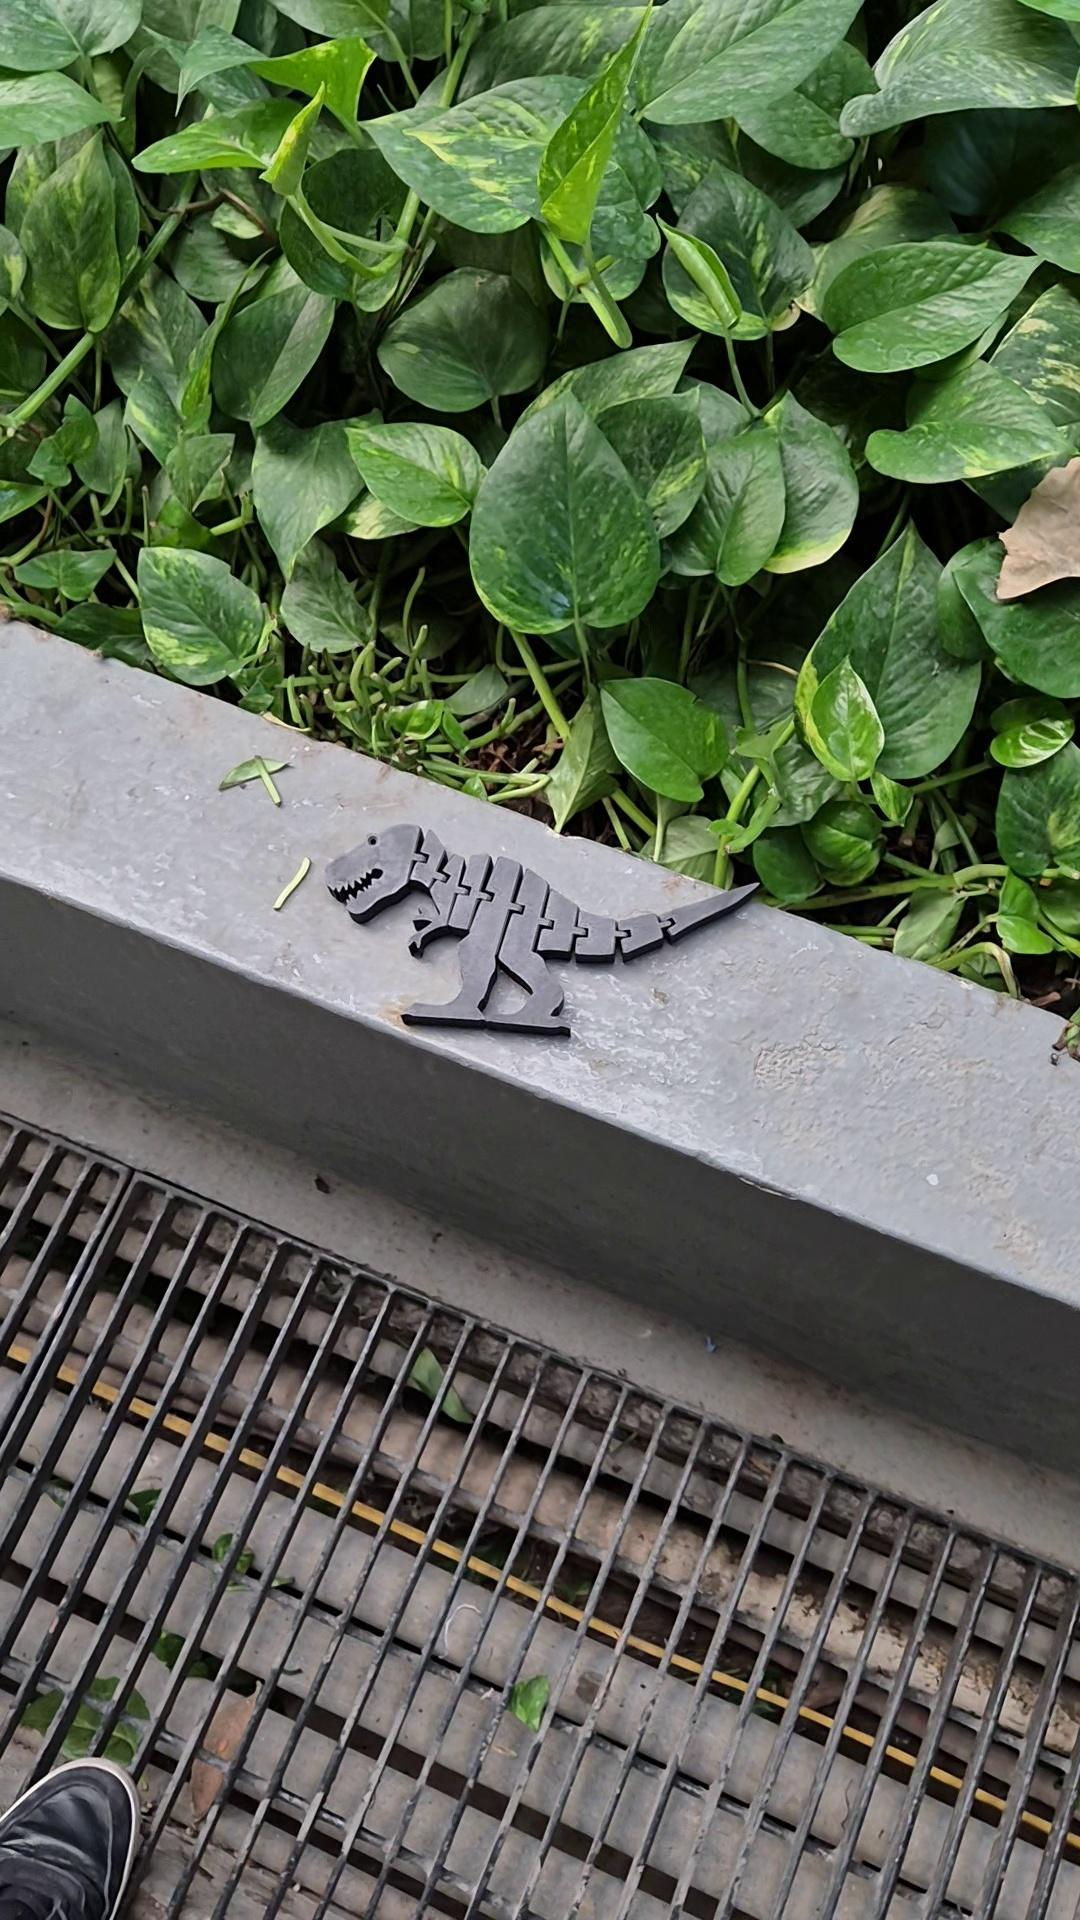dinosaur: (322, 823, 762, 1039)
